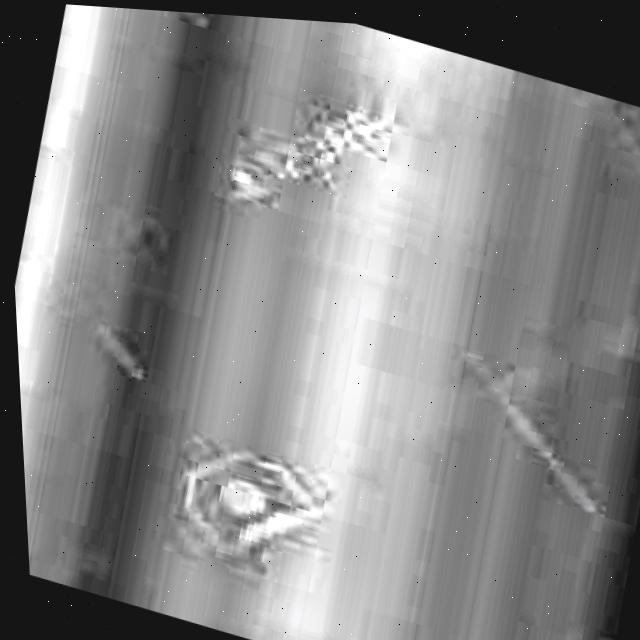metal: (12, 3, 640, 640)
